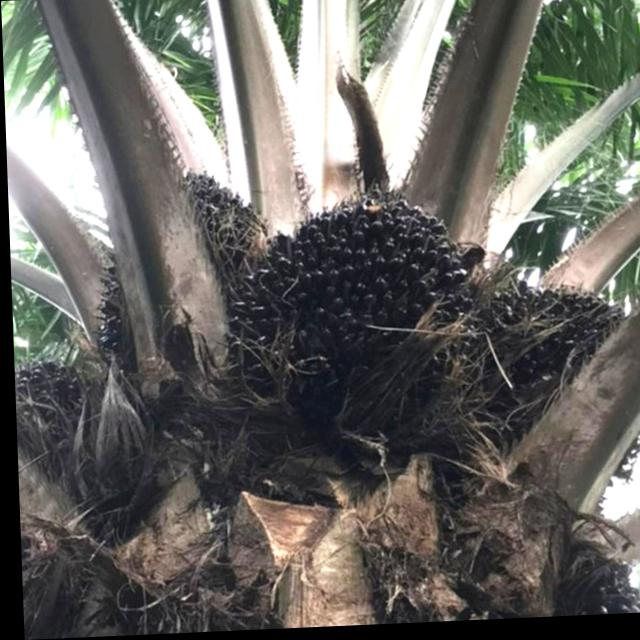almost: (226, 182, 468, 429), (86, 153, 282, 361), (471, 275, 640, 485), (10, 352, 98, 448)
